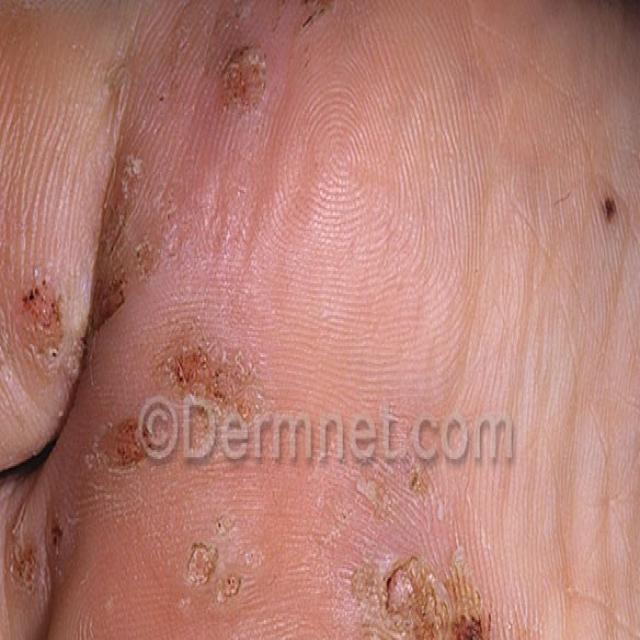Warts: (375, 545, 536, 640), (171, 319, 257, 438), (211, 36, 288, 140), (17, 515, 79, 615), (20, 271, 81, 372), (589, 146, 640, 256), (109, 407, 157, 487)
